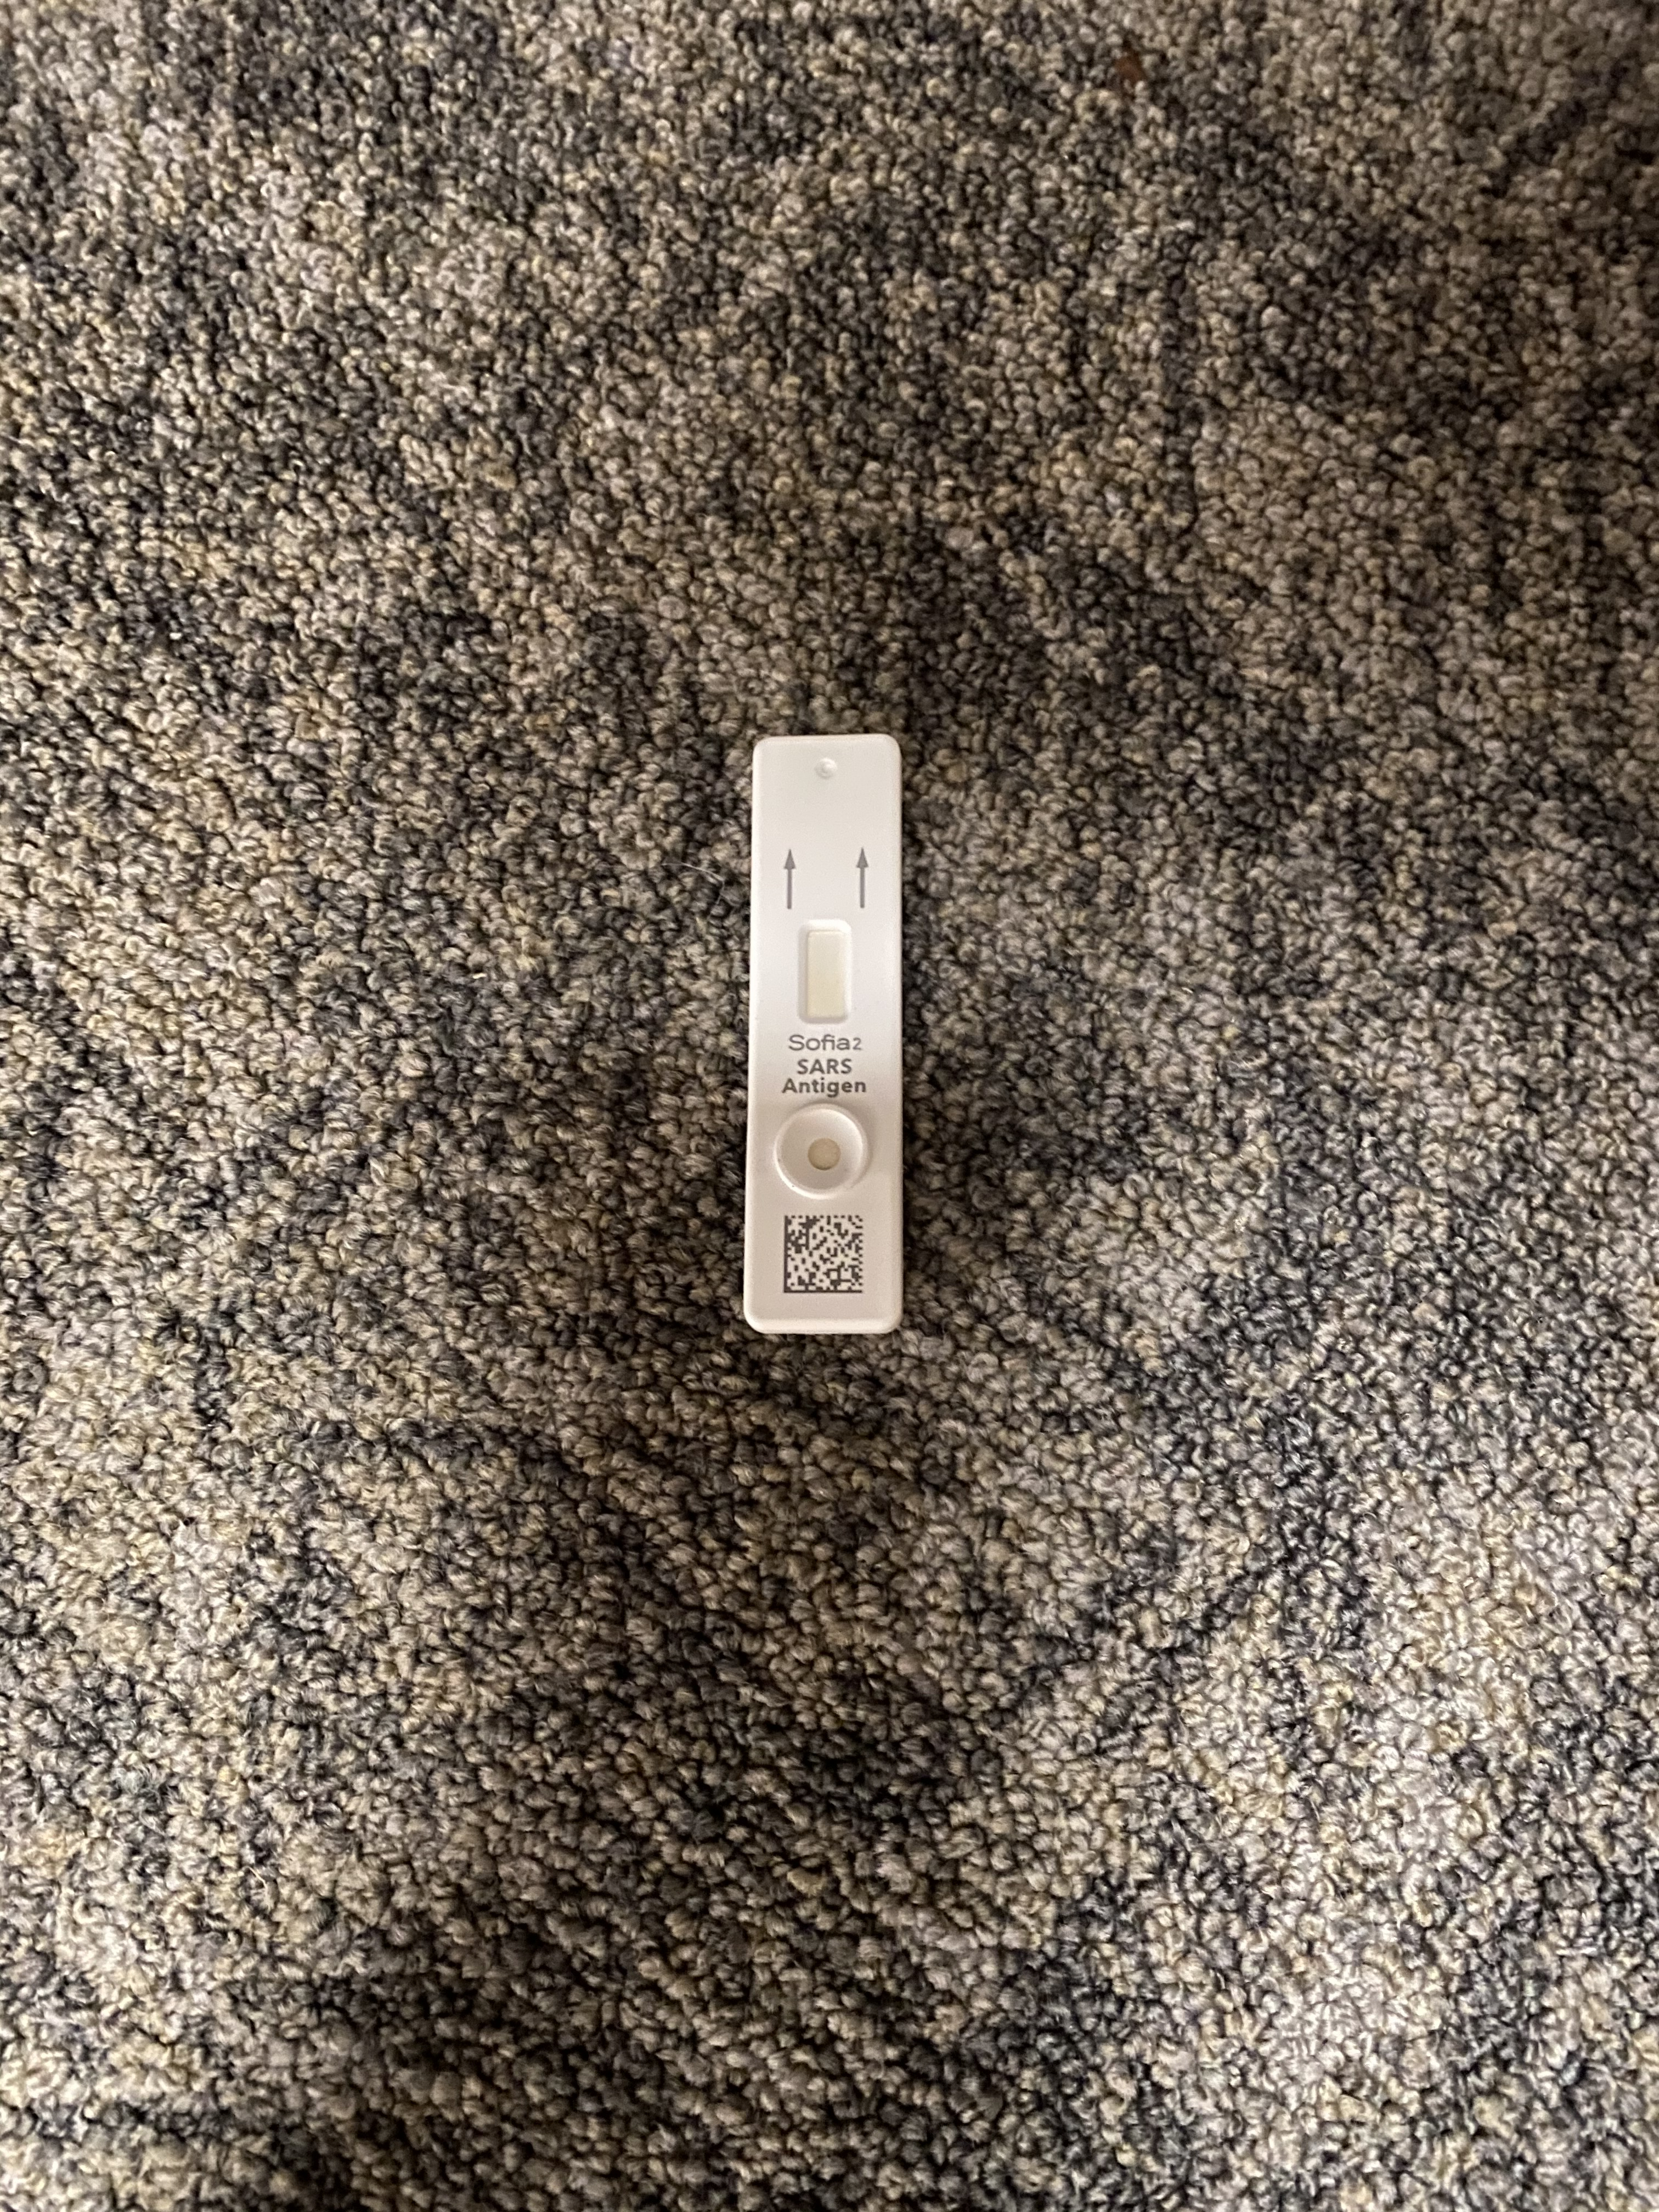quidel: (730, 726, 924, 1348)
